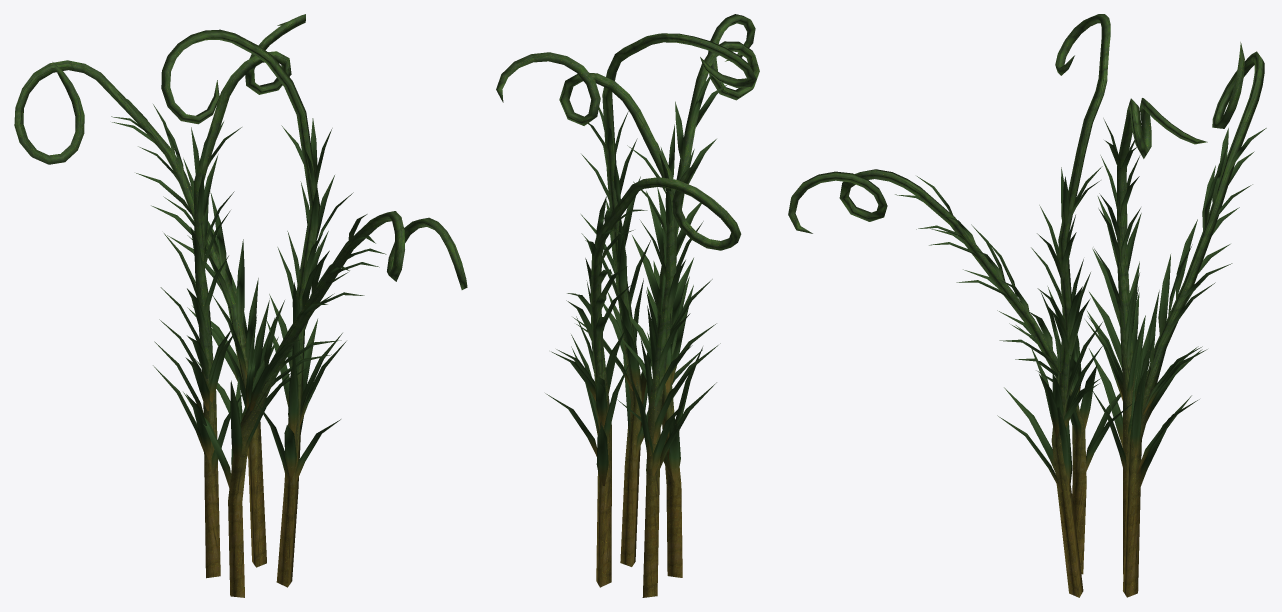
File: Plant7_1_L1.fbx
3 renders of one model, left to right at view 1: azimuth 30°, elevation 25°; view 2: azimuth 150°, elevation 25°; view 3: azimuth 270°, elevation 25°, orthographic. The views are drawn at different scales.
Visible parts, largest first — view 1: polySurface19; view 2: polySurface19; view 3: polySurface19.
Boxes of the visible parts, x1=… form: polySurface19: x1=14, y1=14, x2=467, y2=597; polySurface19: x1=496, y1=14, x2=759, y2=597; polySurface19: x1=788, y1=14, x2=1266, y2=597.
Bounding box in the file's own units: 111 × 226 × 182.
